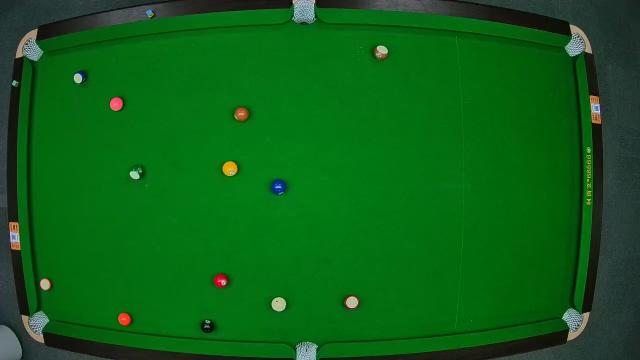bag1: (22, 38, 40, 60)
bag2: (292, 0, 316, 26)
bag3: (566, 35, 586, 56)
bag4: (29, 310, 47, 332)
bag5: (294, 340, 318, 360)
bag6: (562, 309, 582, 329)
ball0: (272, 296, 286, 312)
ball1: (222, 161, 238, 177)
ball10: (72, 71, 88, 85)
ball11: (344, 294, 361, 310)
ball12: (40, 277, 52, 291)
ball14: (129, 166, 143, 180)
ball15: (372, 44, 388, 60)
ball2: (272, 178, 286, 195)
ball3: (214, 274, 228, 288)
ball4: (109, 96, 123, 111)
ball5: (118, 312, 130, 326)
ball7: (234, 106, 250, 121)
ball8: (200, 320, 216, 334)
